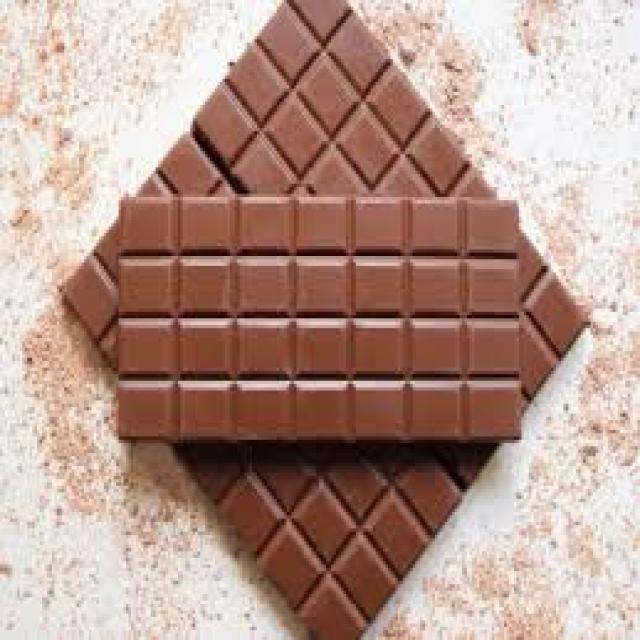chocolate: (64, 0, 591, 640), (118, 192, 524, 446)
